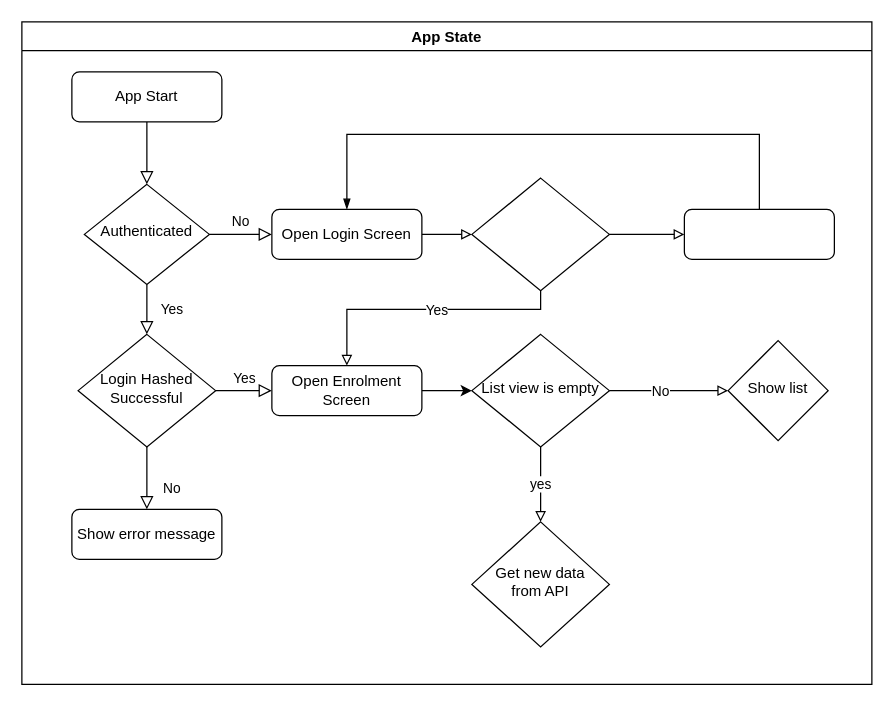
This 894x706 diagram has some shape labels left out. The centre of each missing label's shape, as x and y in pixels:
"Login credentials valid" belongs at point 540,234.
"Show error" belongs at point 758,233.
